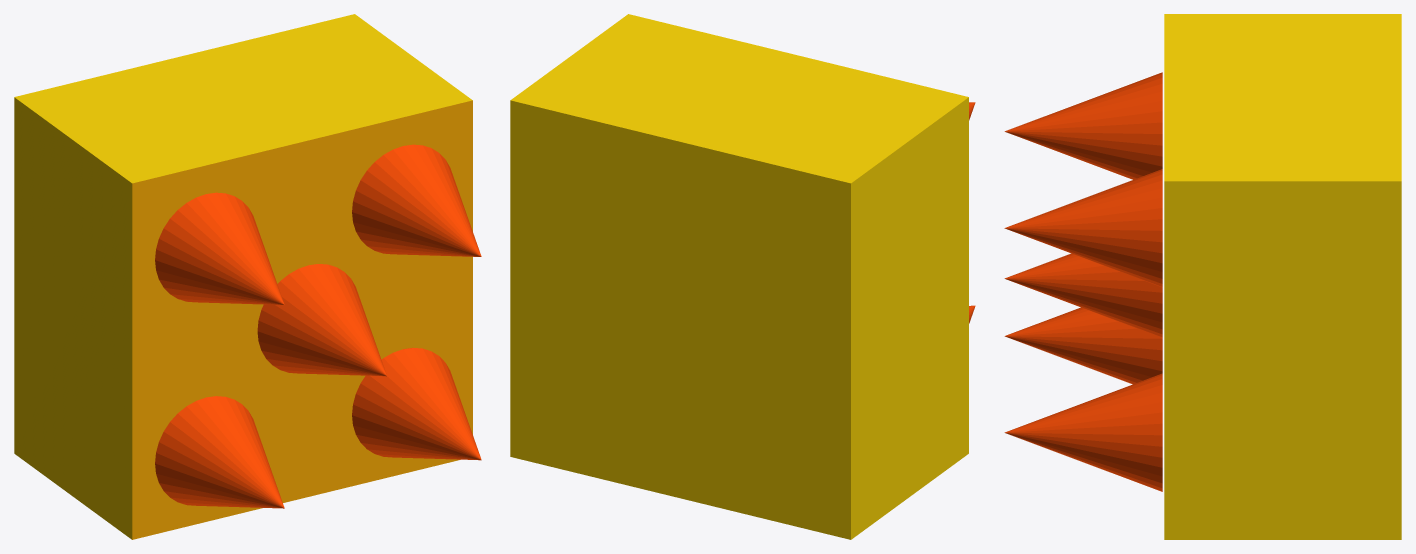
The model's file is wall.obj.
3 renders of one model, left to right at view 1: azimuth 30°, elevation 25°; view 2: azimuth 150°, elevation 25°; view 3: azimuth 270°, elevation 25°, orthographic.
Visible parts, largest first — view 1: Cube; view 2: Cube; view 3: Cube.
Boxes of the visible parts, box(x1,y1,x2,y2) form: Cube: box(14, 14, 481, 539); Cube: box(510, 14, 975, 539); Cube: box(1004, 14, 1401, 539).
Size of the model in its own units: 2 by 2 by 2.01.
Materials: 1 (1 with a texture image).
